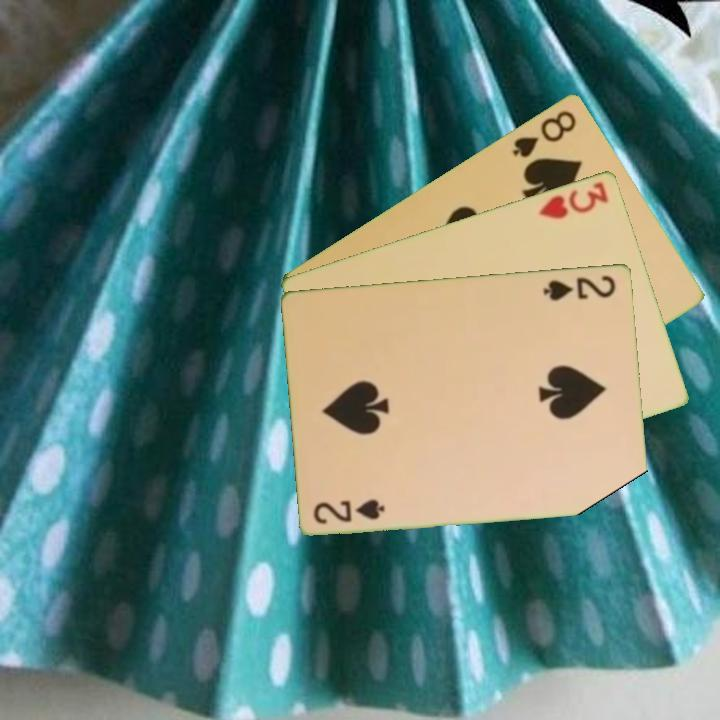2s: (540, 271, 619, 304), (310, 495, 388, 527)
3h: (535, 177, 612, 222)
8s: (509, 106, 580, 160)
